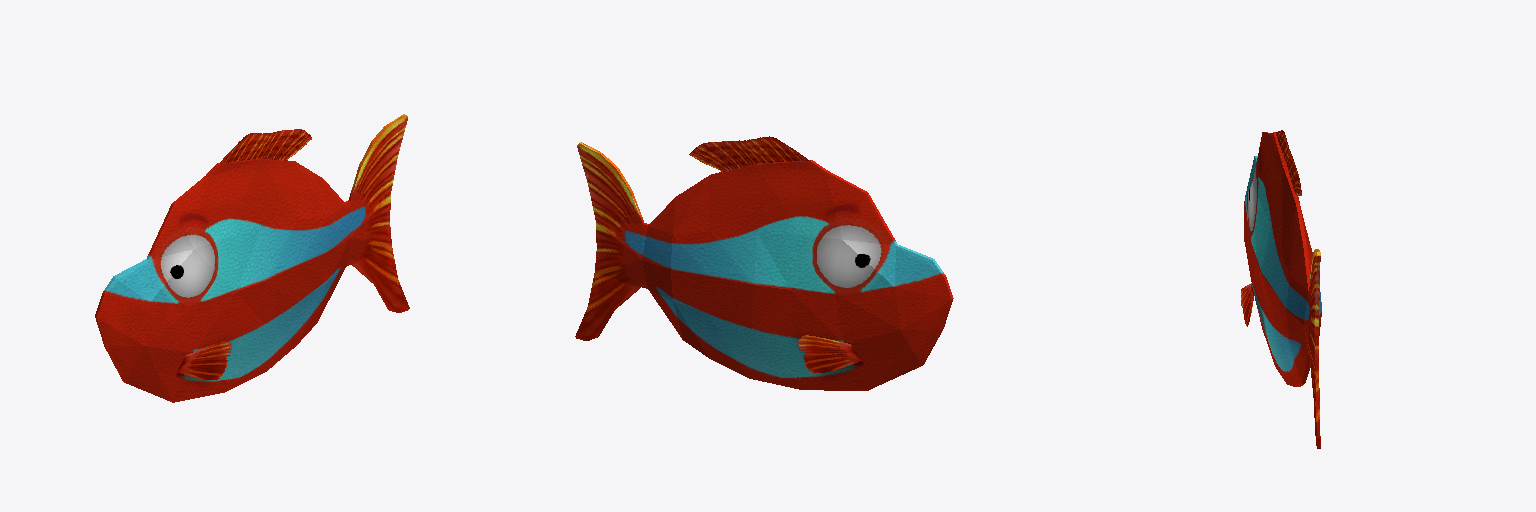
The picture shows the model from 3 angles: view 1: azimuth 30°, elevation 25°; view 2: azimuth 150°, elevation 25°; view 3: azimuth 270°, elevation 25°; orthographic projection.
Parts seen in each view (by area): view 1: fish01; view 2: fish01; view 3: fish01.
Part boxes in pixels (x1,y1,x2,y2): fish01: (95,114,409,402); fish01: (575,136,953,390); fish01: (1241,130,1321,448).
Bounding box in the file's own units: 73.89 × 51.78 × 15.68.
1 materials, 1 textured.